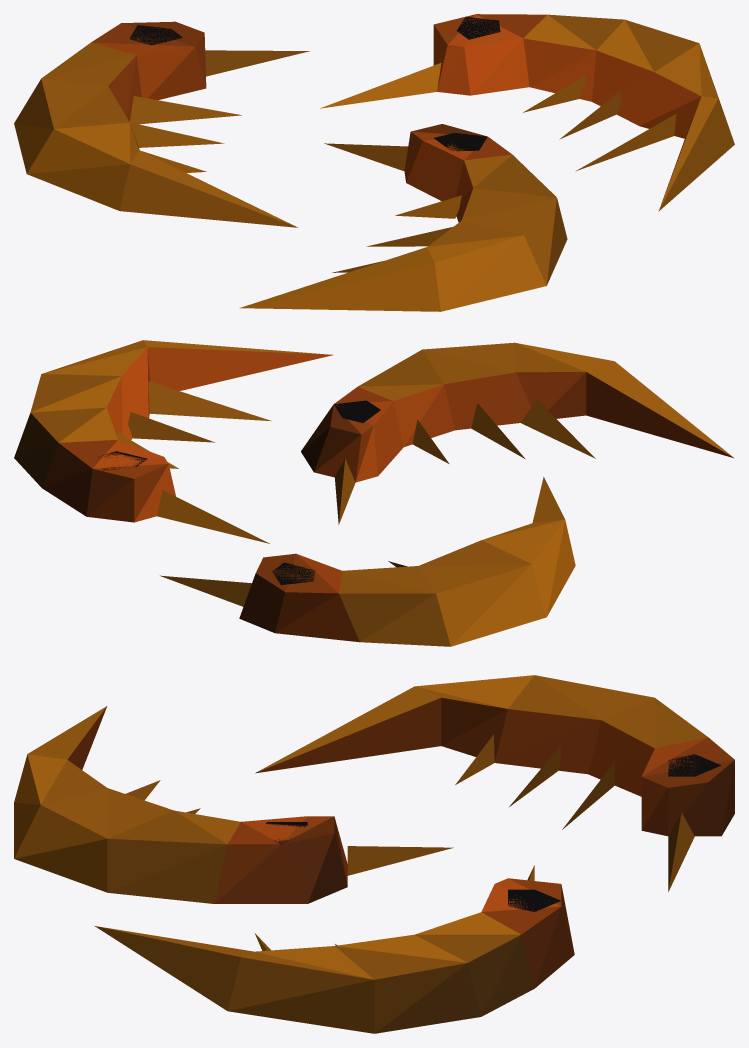
The model's file is raw-shrimp.obj.
3 views of the same model, one above another, from view 1: azimuth 30°, elevation 25°; view 2: azimuth 150°, elevation 25°; view 3: azimuth 270°, elevation 25° (orthographic). The views are drawn at different scales.
Visible parts, largest first — view 1: Item Shrimps 2026-10-20_19-12-53; view 2: Item Shrimps 2026-10-20_19-12-53; view 3: Item Shrimps 2026-10-20_19-12-53.
Boxes of the visible parts, box(x1,y1,x2,y2) form: Item Shrimps 2026-10-20_19-12-53: box(14, 14, 734, 311); Item Shrimps 2026-10-20_19-12-53: box(14, 340, 734, 646); Item Shrimps 2026-10-20_19-12-53: box(14, 675, 734, 1033).
Size of the model in its own units: 57 by 4 by 54.
